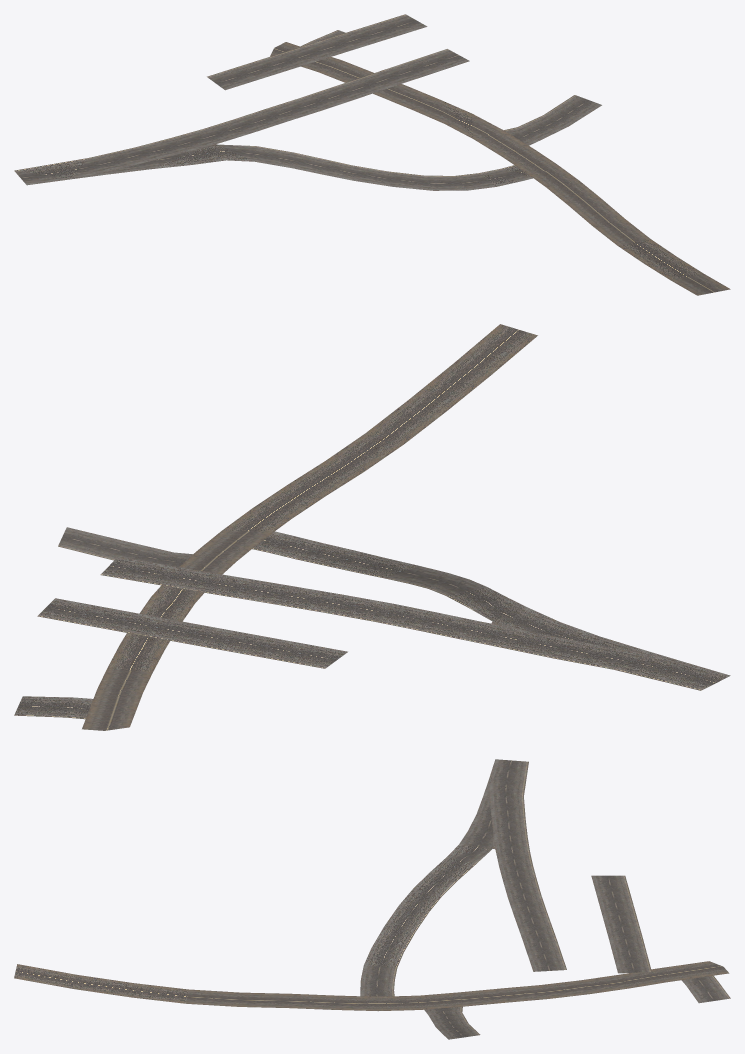
The model's file is cs_lodroads09.obj.
3 renders of one model, top to bottom at view 1: azimuth 30°, elevation 25°; view 2: azimuth 150°, elevation 25°; view 3: azimuth 270°, elevation 25°, orthographic. The views are drawn at different scales.
Parts seen in each view (by area): view 1: cs_lodroads09; view 2: cs_lodroads09; view 3: cs_lodroads09.
Boxes of the visible parts, x1,y1,x2,y2 form: cs_lodroads09: (14,14,730,295); cs_lodroads09: (14,324,730,730); cs_lodroads09: (14,759,730,1039).
Size of the model in its own units: 207 by 16.38 by 253.
2 materials, 2 textured.
